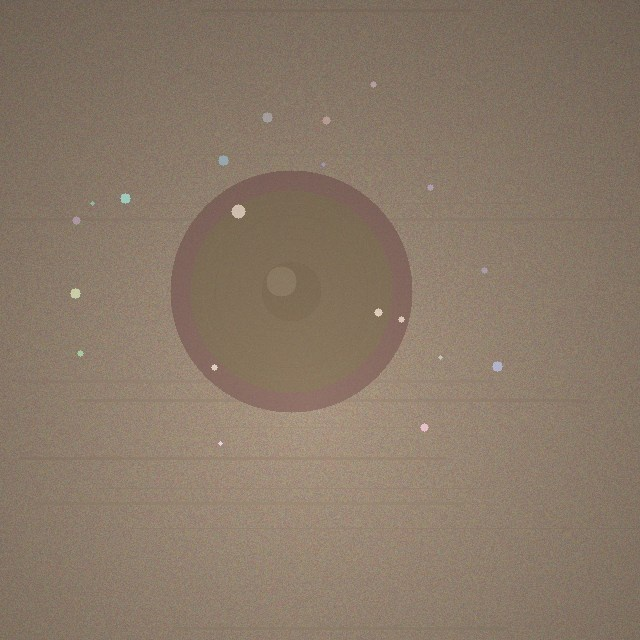overburn: (170, 170, 412, 412)
